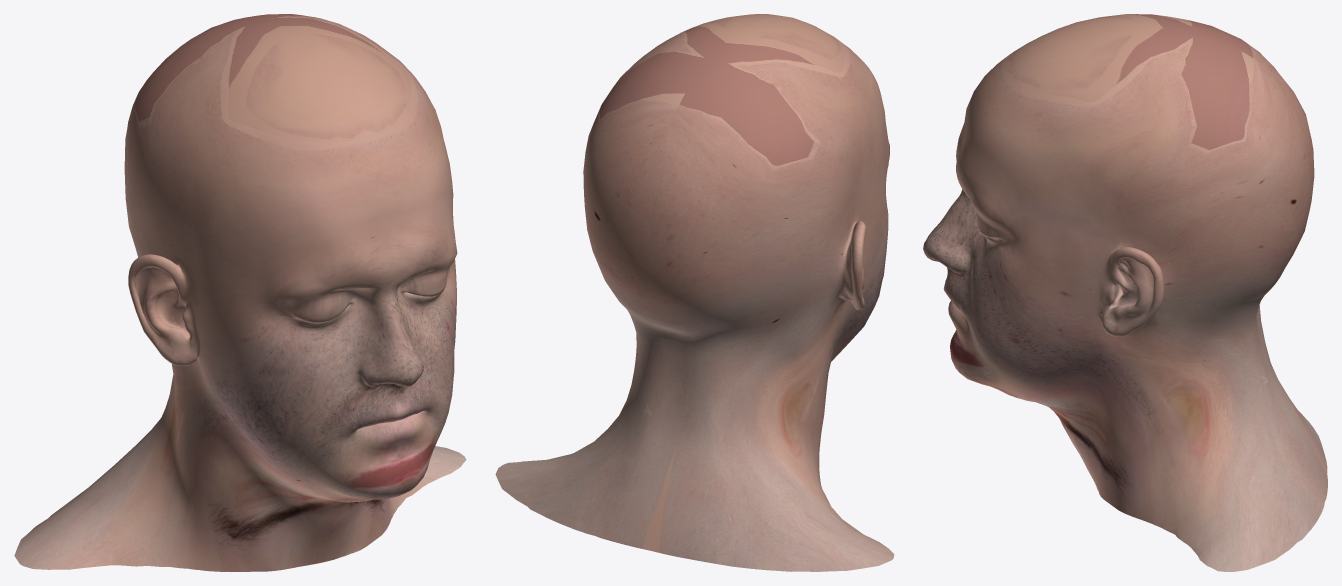
Rendered from head.glb.
3 views of the same model, side by side, from view 1: azimuth 30°, elevation 25°; view 2: azimuth 150°, elevation 25°; view 3: azimuth 270°, elevation 25° (orthographic). The views are drawn at different scales.
Parts seen in each view (by area): view 1: Head_Scan; view 2: Head_Scan; view 3: Head_Scan.
Part boxes in pixels (box(x1,y1,x2,y2)): Head_Scan: box(14, 14, 466, 571); Head_Scan: box(495, 14, 894, 571); Head_Scan: box(923, 14, 1327, 571).
Bounding box in the file's own units: 0.1864 × 0.205 × 0.1669.
1 material, 1 textured.
